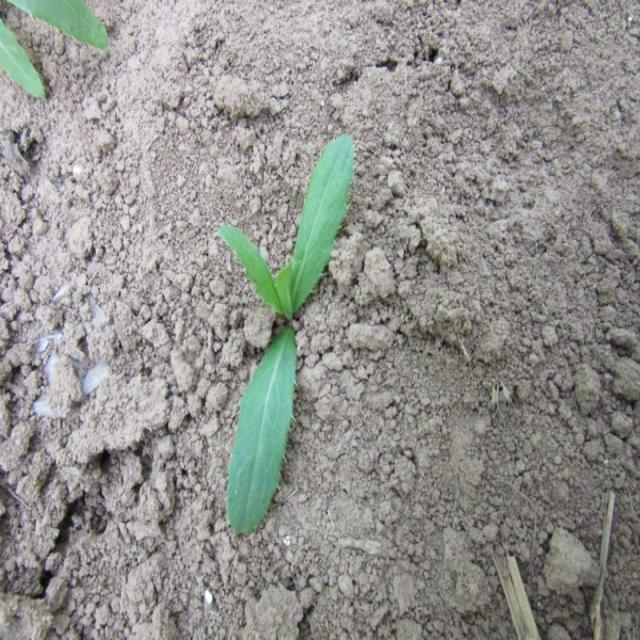field_thistle: (201, 118, 363, 532)
